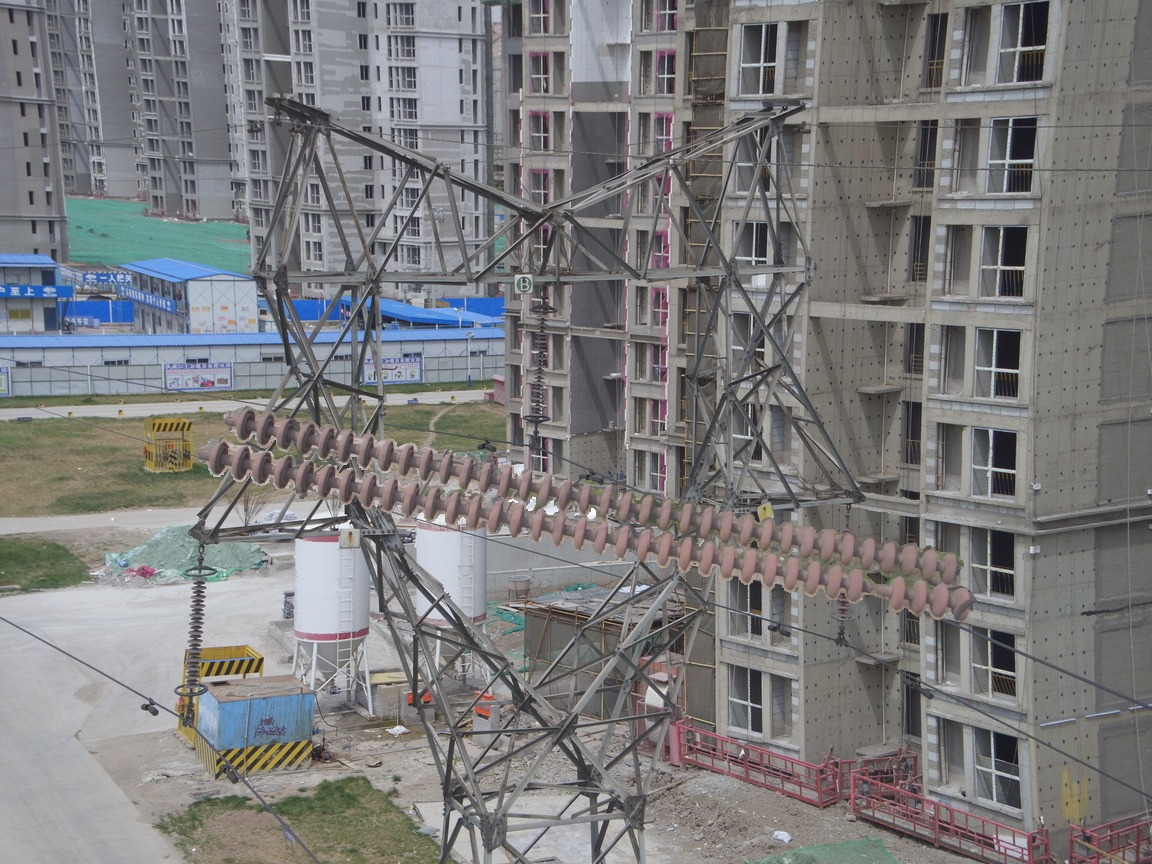defect: (845, 563, 912, 611)
